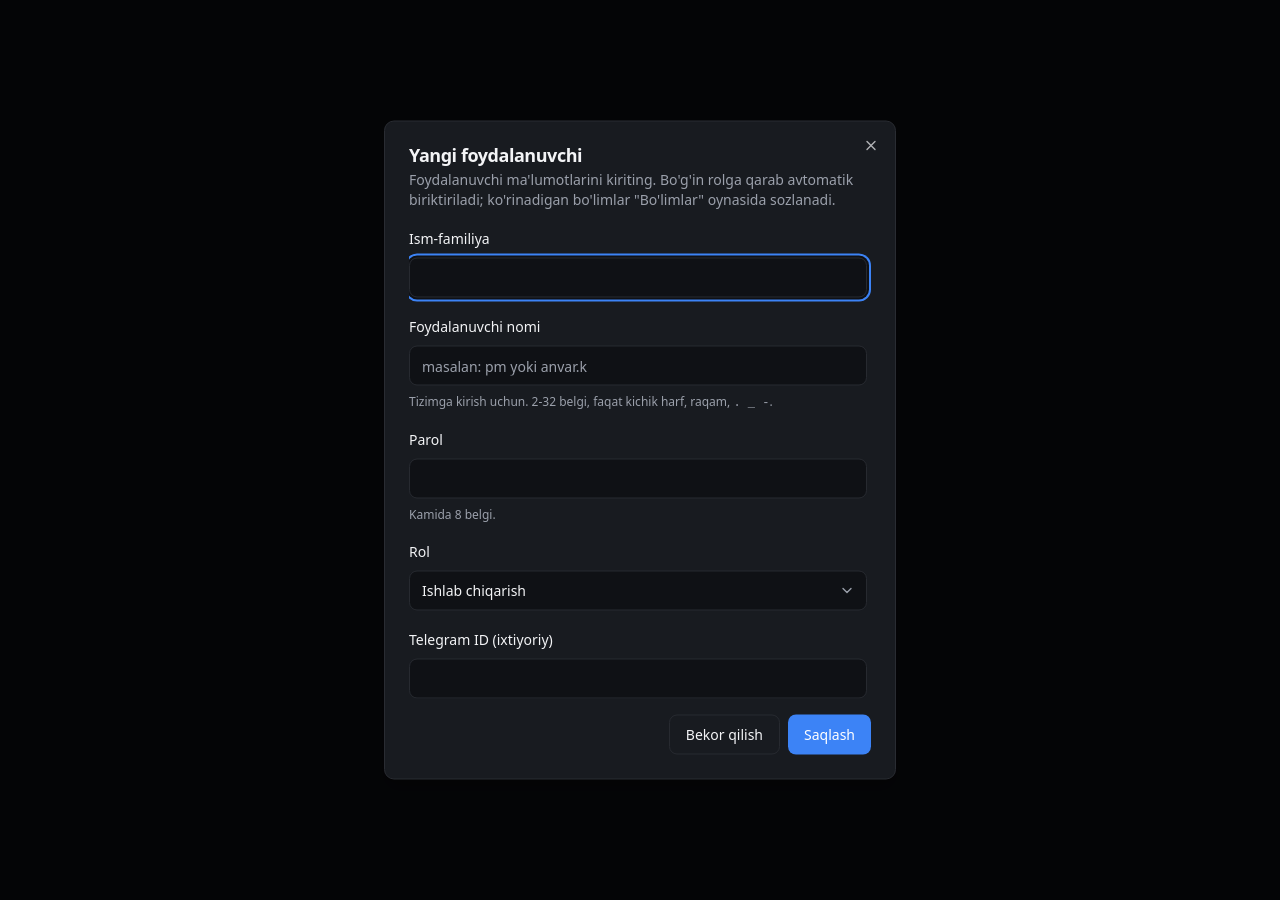
EmployeeFormDialog › rejects a blank username without firing a request
The image size is (1280, 900).
Type "Test" into the field labelled "Ism-familiya".
click(638, 278); type("Test")  # box top-left (409, 258), bottom-right (867, 298)
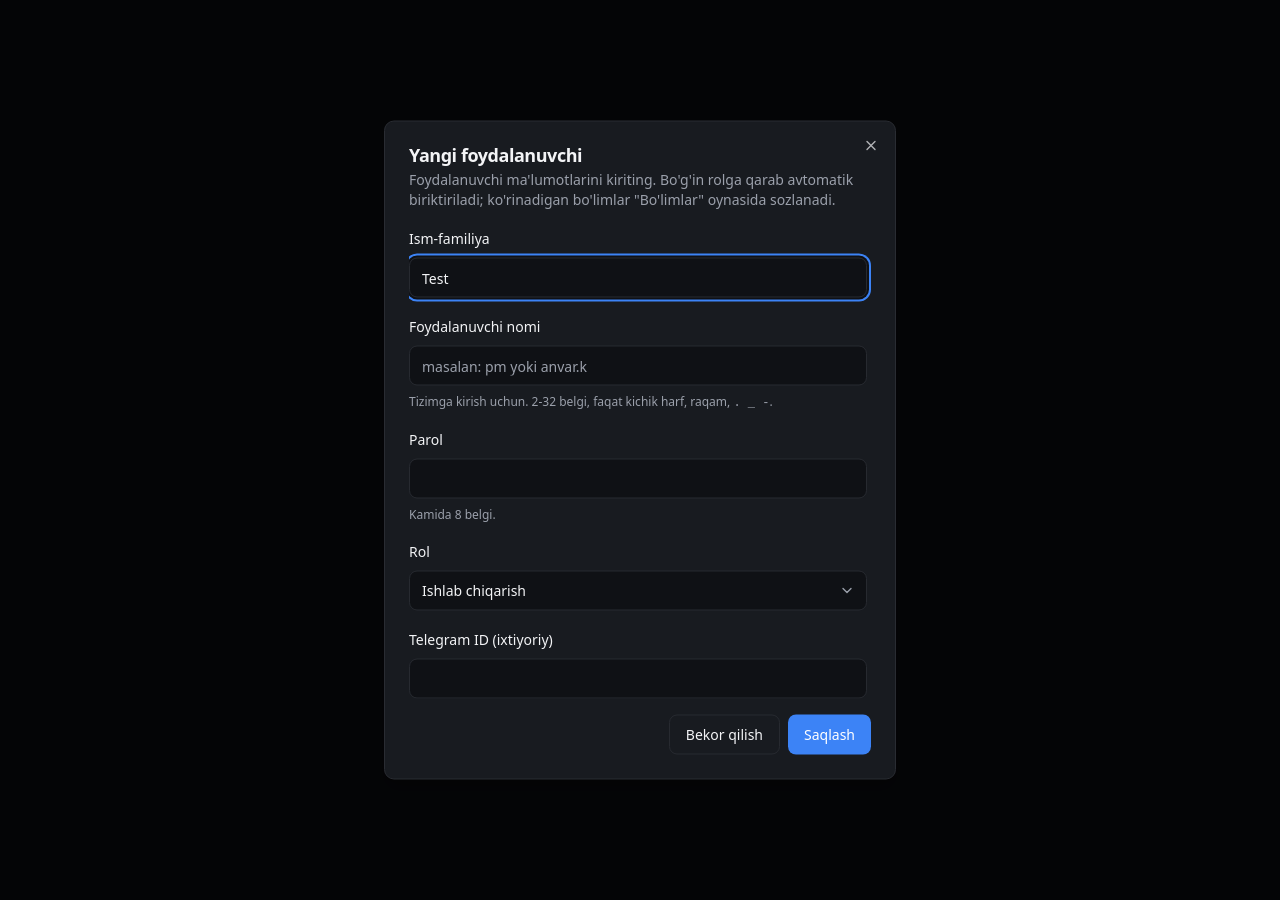
Type "pass1234" into the password field labelled "Parol".
click(638, 478); type("pass1234")  # box top-left (409, 458), bottom-right (867, 498)
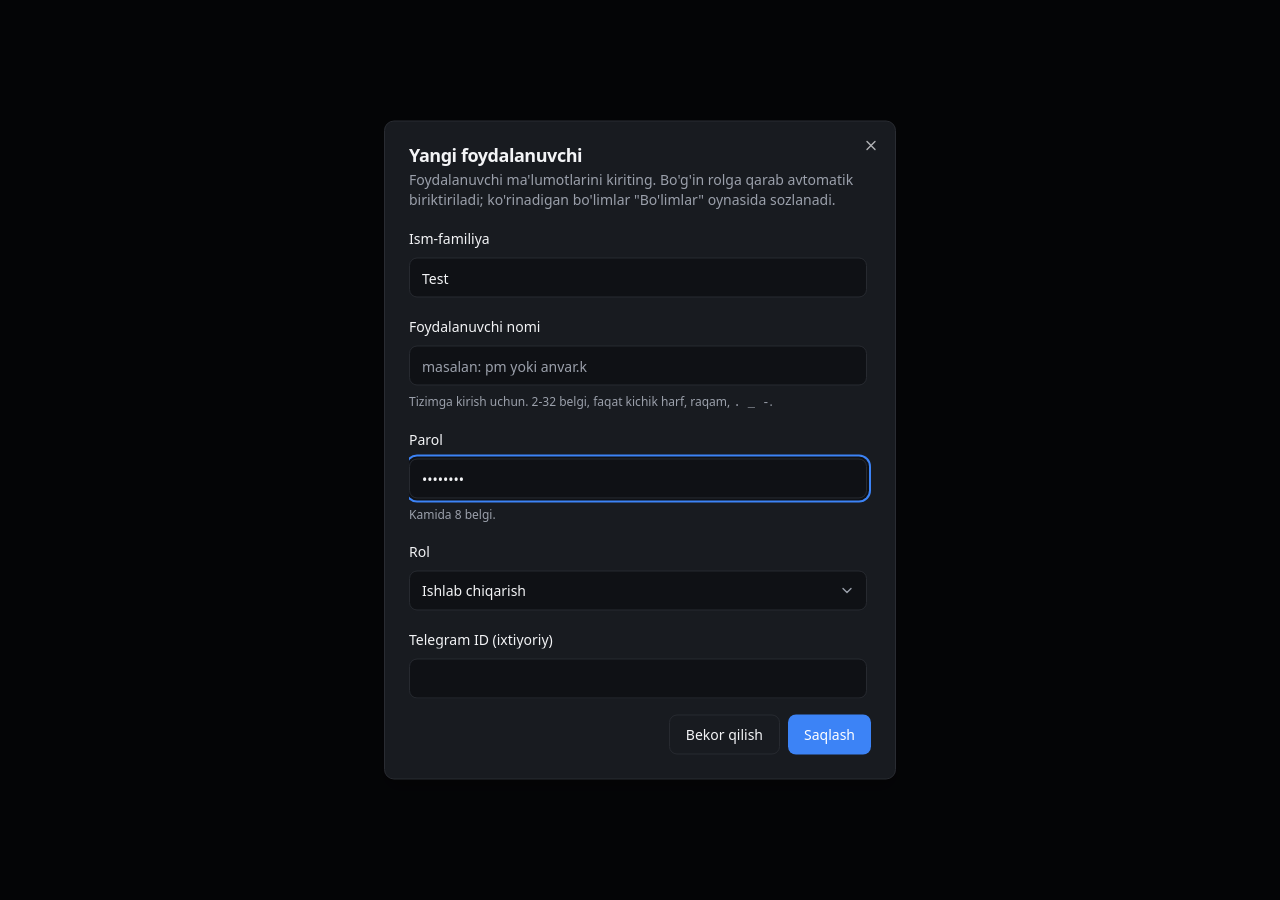
Click the button "Saqlash".
click(830, 734)  # box top-left (788, 714), bottom-right (871, 754)
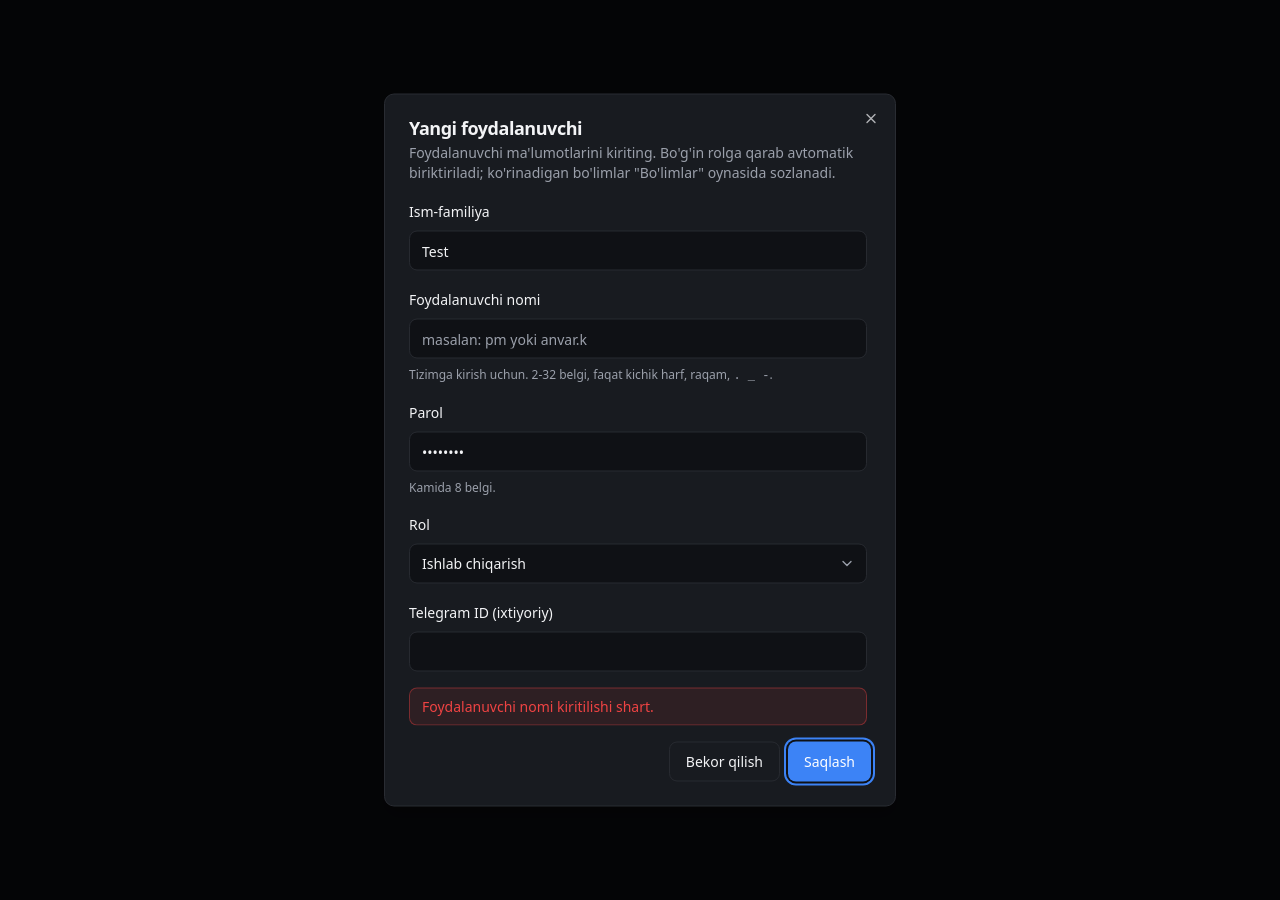
Check: the message shows "Foydalanuvchi nomi", box top-left (422, 696), bottom-right (654, 716)
